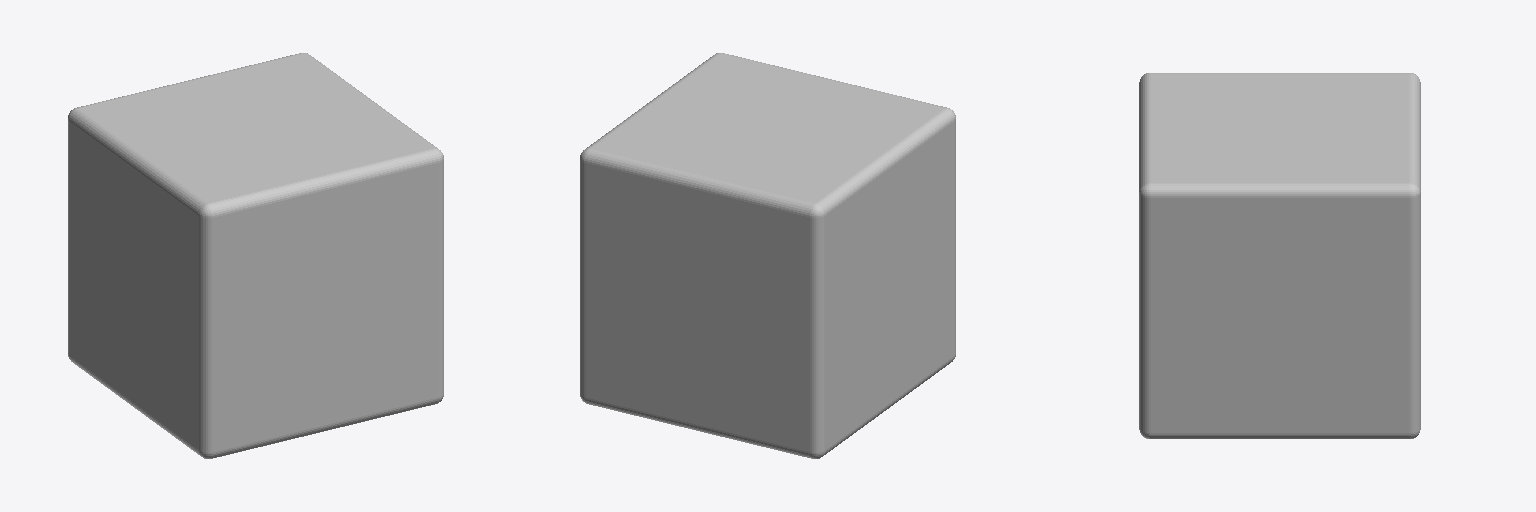
File: icon.obj
3 views of the same model, side by side, from view 1: azimuth 30°, elevation 25°; view 2: azimuth 150°, elevation 25°; view 3: azimuth 270°, elevation 25° (orthographic).
Parts seen in each view (by area): view 1: 000_Box_-_baked_1; view 2: 000_Box_-_baked_1; view 3: 000_Box_-_baked_1.
Boxes of the visible parts, x1=… form: 000_Box_-_baked_1: x1=68, y1=53, x2=443, y2=458; 000_Box_-_baked_1: x1=580, y1=53, x2=955, y2=458; 000_Box_-_baked_1: x1=1139, y1=73, x2=1420, y2=438.
Bounding box in the file's own units: 1000 × 1000 × 1000.